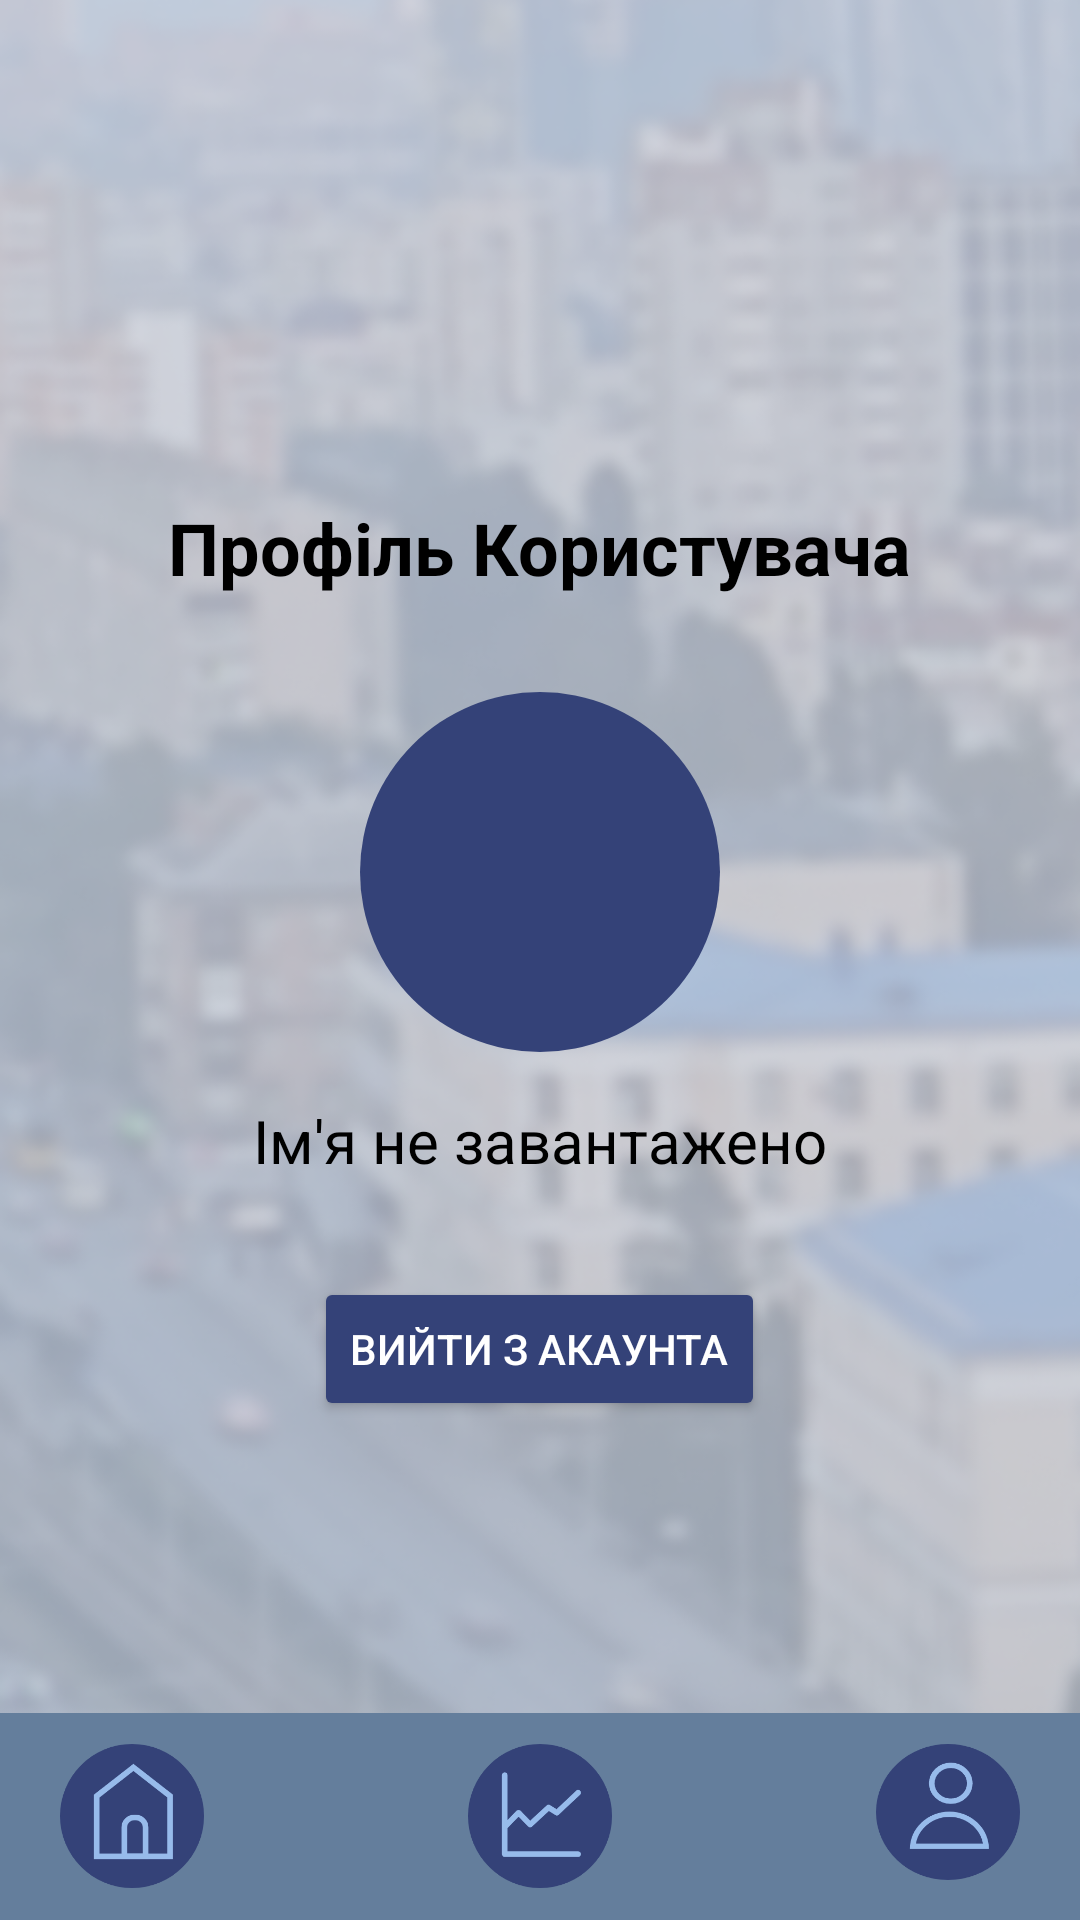

Icon click points for this 1080*1920 phone screenshot, format (x,y):
home not: (132,1816)
profile not: (948,1812)
statistic not: (540,1816)
